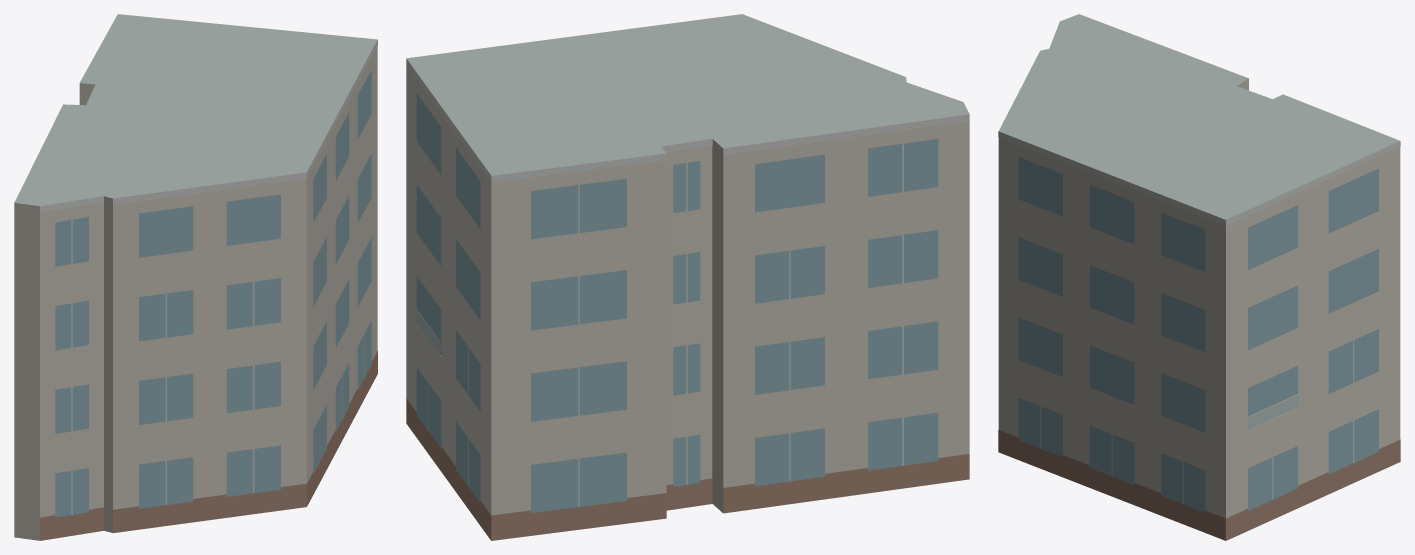
Rendered from survey-upis-32740205.glb.
The picture shows the model from 3 angles, left to right: view 1: azimuth 30°, elevation 25°; view 2: azimuth 150°, elevation 25°; view 3: azimuth 270°, elevation 25°; orthographic projection. The views are drawn at different scales.
Parts seen in each view (by area): view 1: survey-upis-32740205.tmp; view 2: survey-upis-32740205.tmp; view 3: survey-upis-32740205.tmp.
Boxes of the visible parts, x1,y1,x2,y2 form: survey-upis-32740205.tmp: (14,14,377,540); survey-upis-32740205.tmp: (406,14,969,540); survey-upis-32740205.tmp: (998,14,1400,540).
Bounding box in the file's own units: 18.24 × 13.25 × 15.05.
